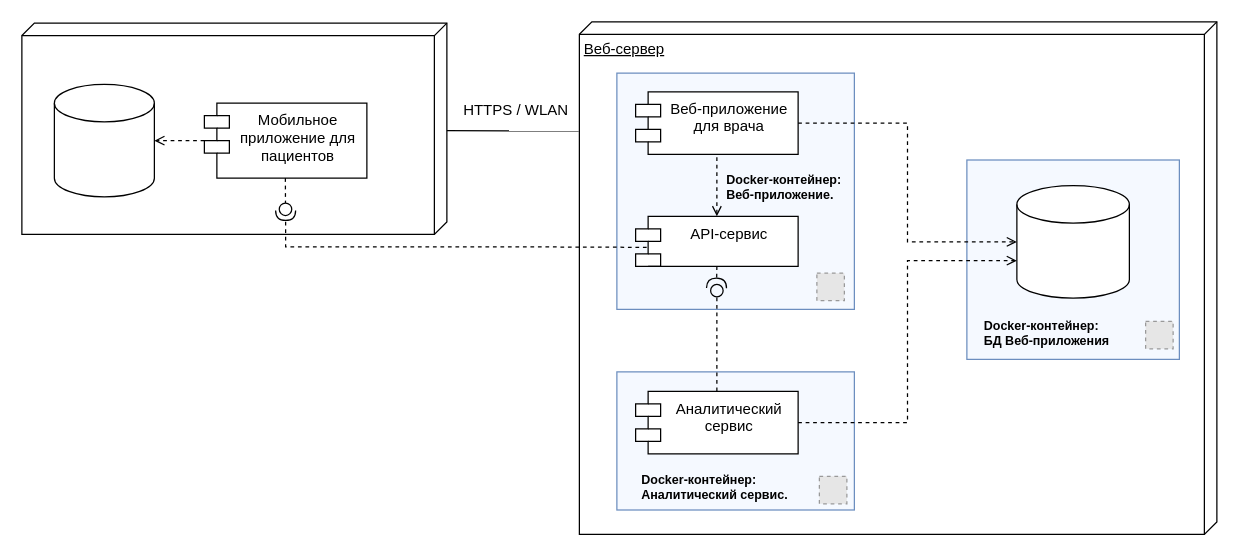
This 1239x556 diagram has some shape labels left out. Grey dashed boxes stand in for pictures. The shapes that lost their labels are listed below. From the top down, each one's box as (x1, y1, x2, y2) in pixels, then its label:
(53, 83, 154, 197): Локальная база данных SQLite
(21, 22, 447, 234): Носимое устройство
(1016, 184, 1129, 298): Центральная база данных PostgreSQL
